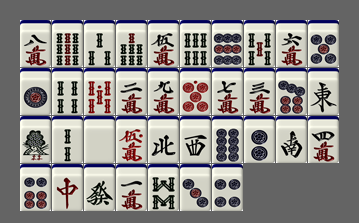0m: (116, 116, 147, 163)
0p: (180, 68, 211, 115)
0s: (84, 68, 115, 115)
1m: (116, 164, 147, 211)
1p: (20, 68, 51, 115)
1s: (20, 116, 51, 163)
1z: (308, 68, 339, 115)
2m: (116, 68, 147, 115)
2p: (244, 116, 275, 163)
2s: (52, 116, 83, 163)
2z: (276, 116, 307, 163)
3m: (244, 68, 275, 115)
3p: (180, 164, 211, 211)
3s: (84, 20, 115, 67)
3z: (180, 116, 211, 163)
4m: (308, 116, 339, 163)
4p: (212, 164, 243, 211)
4s: (52, 68, 83, 115)
4z: (148, 116, 179, 163)
5m: (148, 20, 179, 67)
5p: (308, 20, 339, 67)
5s: (244, 20, 275, 67)
5z: (84, 116, 115, 163)
6m: (276, 20, 307, 67)
6p: (20, 164, 51, 211)
6s: (180, 20, 211, 67)
6z: (84, 164, 115, 211)
7m: (212, 68, 243, 115)
7p: (276, 68, 307, 115)
7s: (116, 20, 147, 67)
7z: (52, 164, 83, 211)
8m: (20, 20, 51, 67)
8p: (212, 116, 243, 163)
8s: (148, 164, 179, 211)
9m: (148, 68, 179, 115)
9p: (212, 20, 243, 67)
9s: (52, 20, 83, 67)
